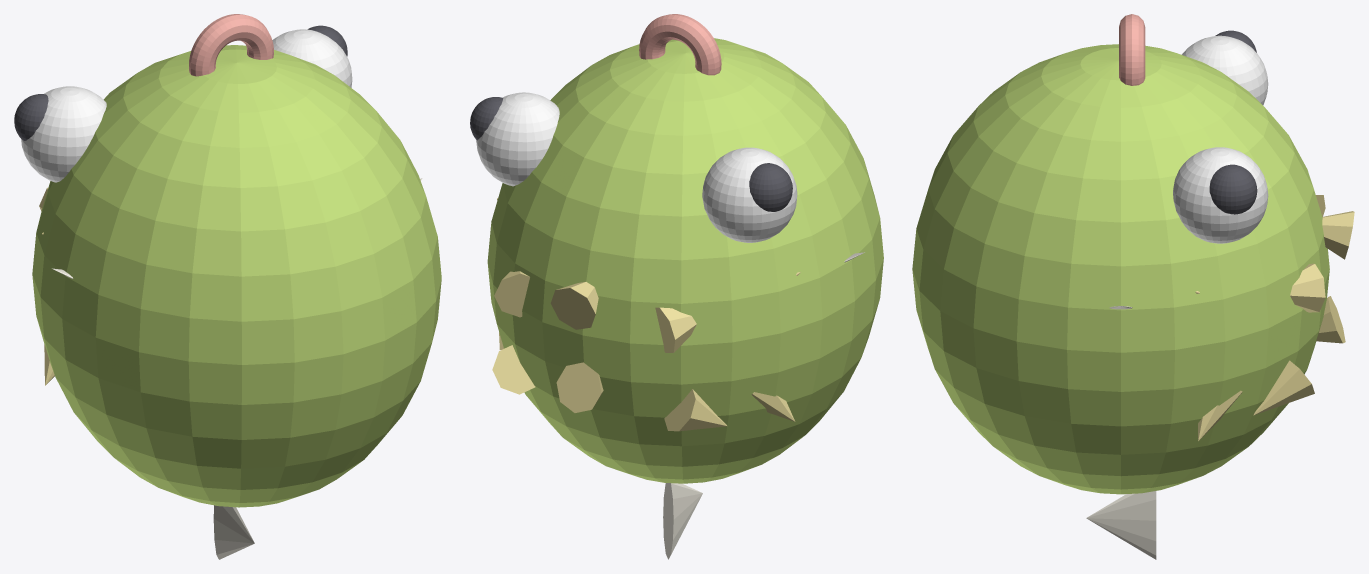
The model's file is pufferfish.glb.
3 views of the same model, side by side, from view 1: azimuth 30°, elevation 25°; view 2: azimuth 150°, elevation 25°; view 3: azimuth 270°, elevation 25° (orthographic). The views are drawn at different scales.
Parts seen in each view (by area): view 1: Pufferfish_Body, Sphere.001, Torus, Sphere.003, Cone.014, Sphere.002; view 2: Pufferfish_Body, Sphere.001, Sphere.003, Torus, Cone.014, Cone.009, Cone, Sphere.002, Cone.008, Cone.007, Cone.002, Cone.001 (+2 smaller); view 3: Pufferfish_Body, Sphere.003, Sphere.001, Cone.014, Sphere.004, Torus, Cone.007, Cone.001, Cone, Cone.009, Cone.005.
Part boxes in pixels (box(x1,y1,x2,y2)): Pufferfish_Body: box(32, 45, 441, 507); Sphere.001: box(21, 86, 106, 182); Torus: box(189, 14, 273, 76); Sphere.003: box(272, 29, 352, 87); Cone.014: box(213, 505, 254, 559); Sphere.002: box(14, 94, 48, 140); Pufferfish_Body: box(487, 38, 883, 483); Sphere.001: box(702, 147, 797, 242); Sphere.003: box(476, 92, 559, 186); Torus: box(639, 14, 721, 75); Cone.014: box(663, 483, 702, 559); Cone.009: box(556, 362, 603, 412); Cone: box(550, 282, 598, 329); Sphere.002: box(749, 163, 792, 211); Cone.008: box(664, 389, 727, 431); Cone.007: box(492, 345, 535, 394); Cone.002: box(655, 307, 696, 352); Cone.001: box(494, 271, 529, 317); Pufferfish_Body: box(912, 44, 1329, 494); Sphere.003: box(1173, 147, 1268, 243); Sphere.001: box(1182, 35, 1268, 105); Cone.014: box(1086, 491, 1156, 559); Sphere.004: box(1209, 164, 1257, 214); Torus: box(1119, 14, 1145, 85); Cone.007: box(1253, 360, 1314, 415); Cone.001: box(1290, 263, 1325, 312); Cone: box(1322, 211, 1354, 259); Cone.009: box(1316, 296, 1345, 343); Cone.005: box(1198, 390, 1242, 440).
Size of the model in its own units: 1.91 by 2.72 by 2.01.
